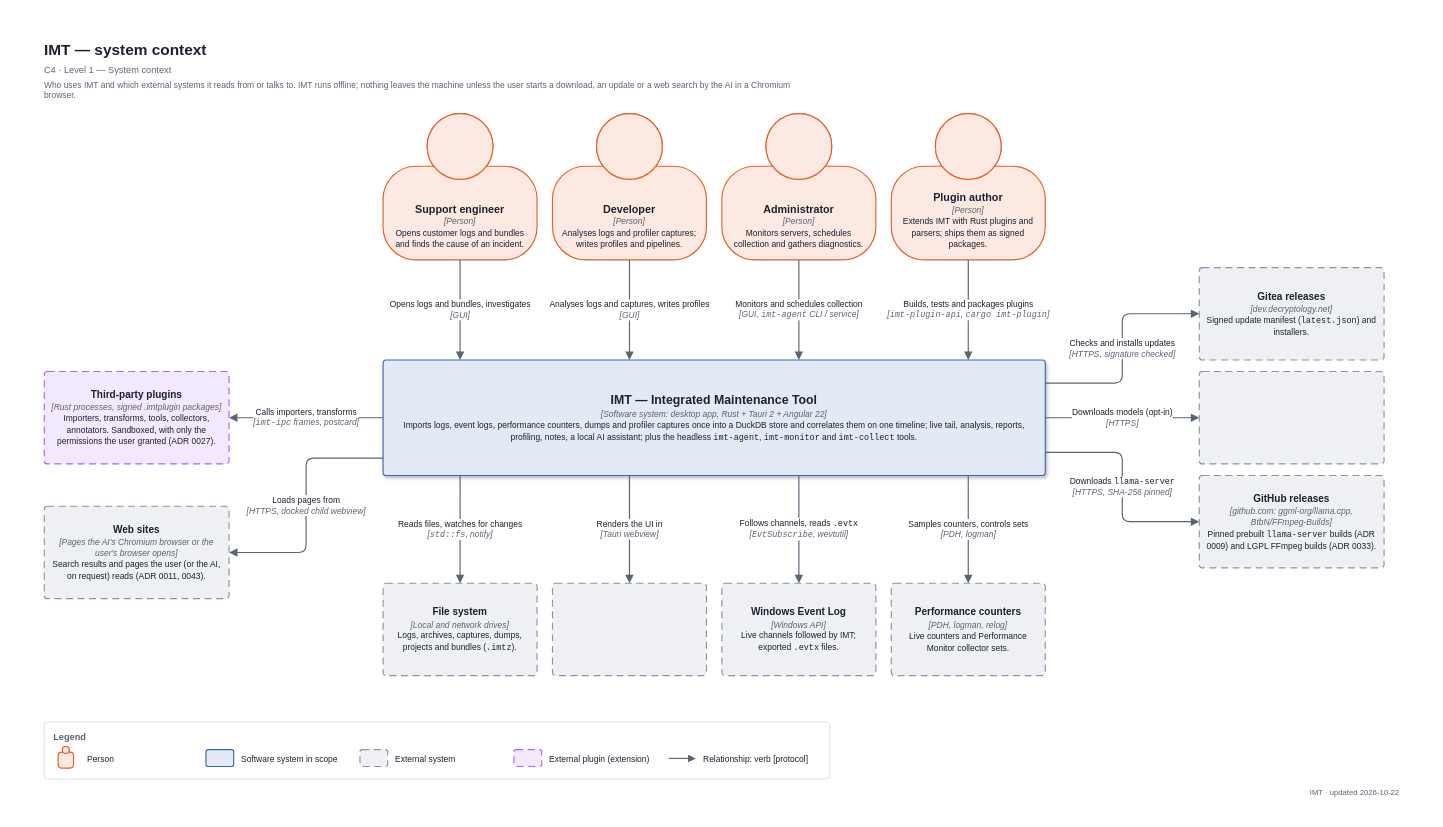
This 1443x827 diagram has some shape labels left out. Here are the shapes that lost their labels. From the top down, the centre of each, then its label:
pixel 1291 417: Hugging Face [huggingface.co] GGUF models for the local AI assistant.
pixel 629 629: OS webview [WebView2 / WKWebView / WebKitGTK] Renders IMT’s user interface.
